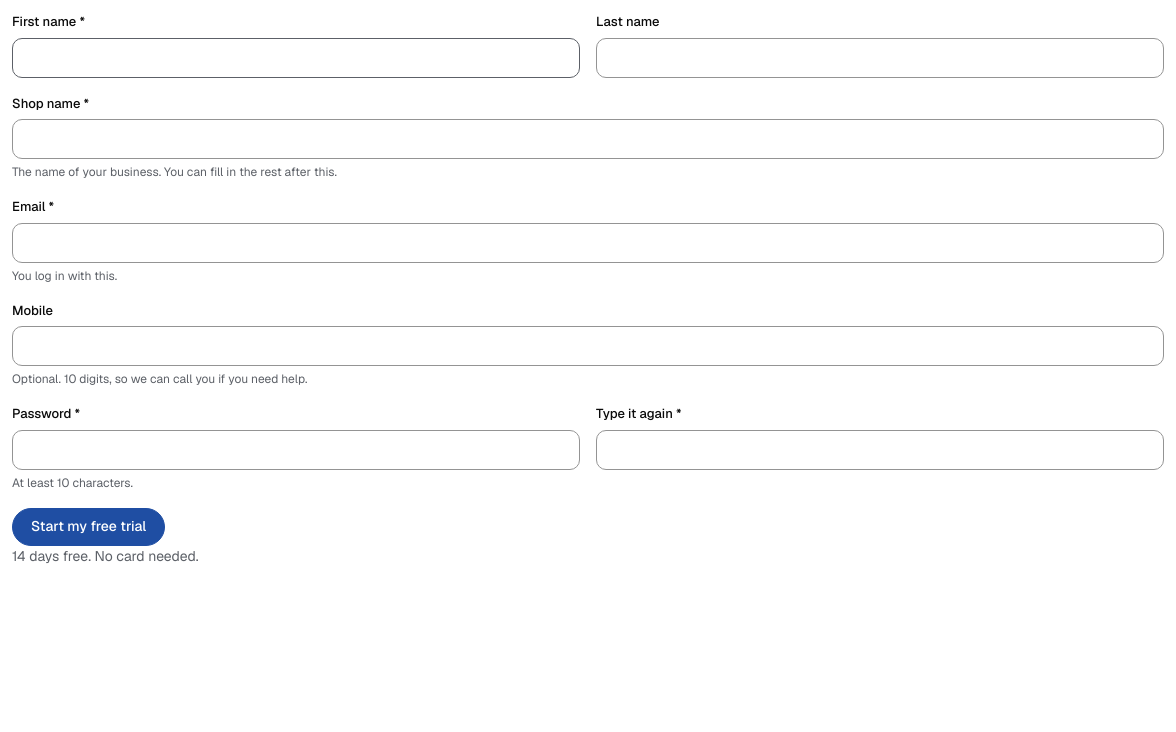
Test: SignupForm › checks the form first: the two passwords must match, and nothing is sent
Click the button "Start my free trial" at {"x": 89, "y": 526}, box [12, 508, 165, 546]
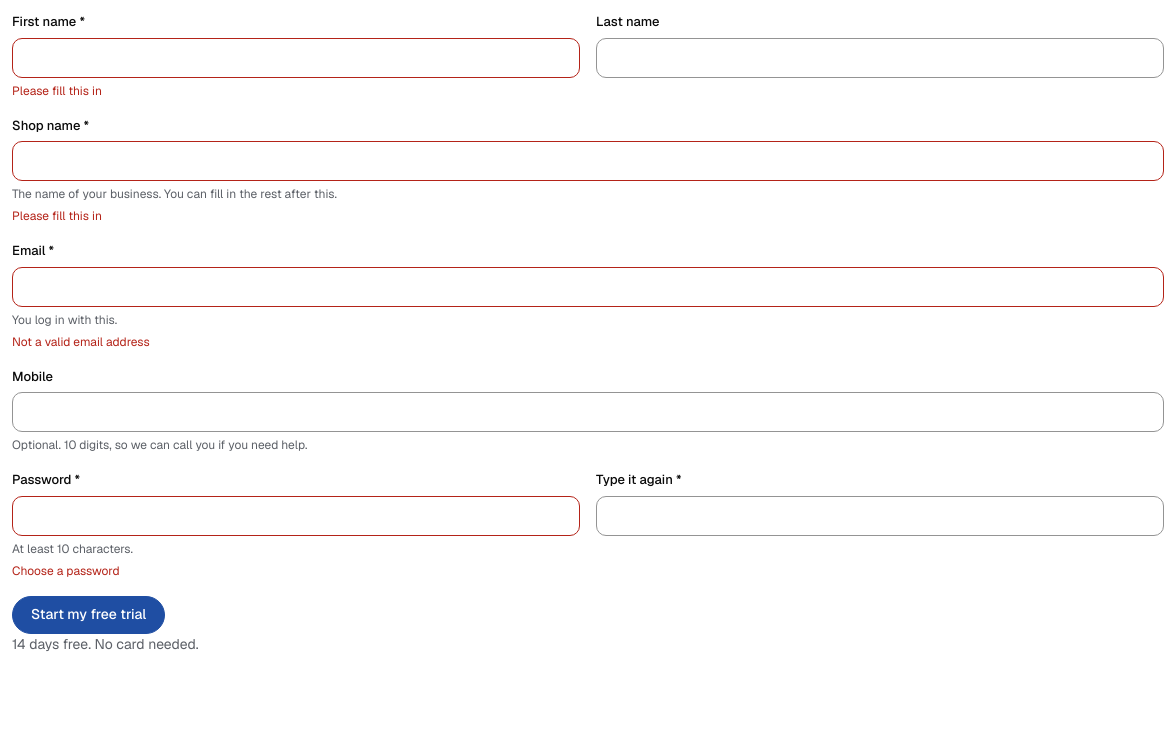
Type "Lakshmi" into the field labelled "First name *" at {"x": 296, "y": 58}, box [12, 38, 580, 78]
Type "Lakshmi Fancy" into the field labelled "Shop name *" at {"x": 588, "y": 161}, box [12, 141, 1164, 181]
Type "Lakshmi@Fancy.test" into the field labelled "Email *" at {"x": 588, "y": 286}, box [12, 266, 1164, 306]
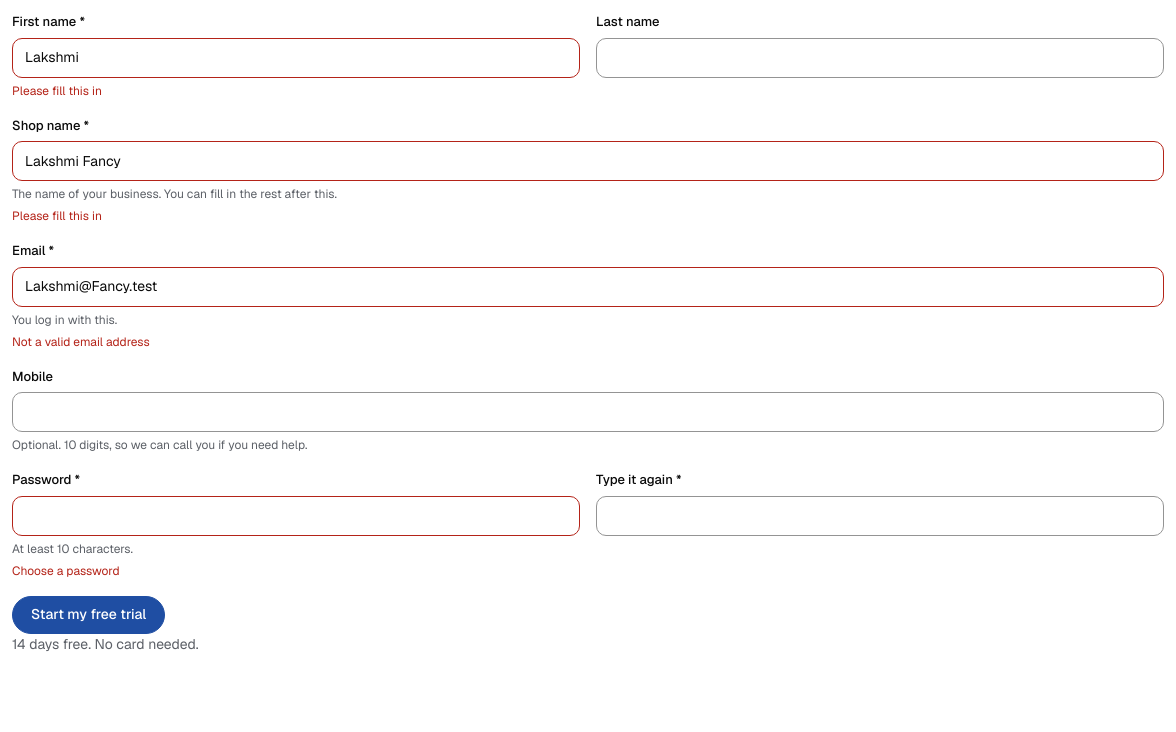
Type "9840012345" into the field labelled "Mobile" at {"x": 588, "y": 412}, box [12, 392, 1164, 432]
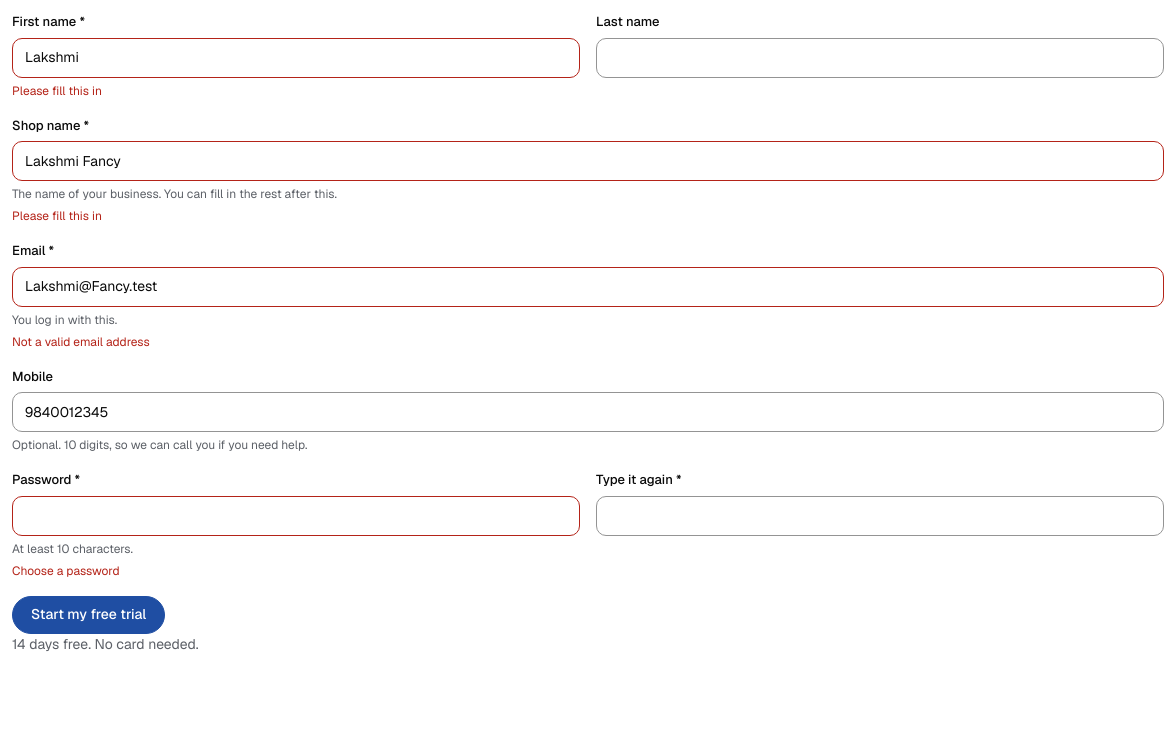
Type "Lakshmi-pass-2026" into the password field labelled "Password *" at {"x": 296, "y": 516}, box [12, 496, 580, 536]
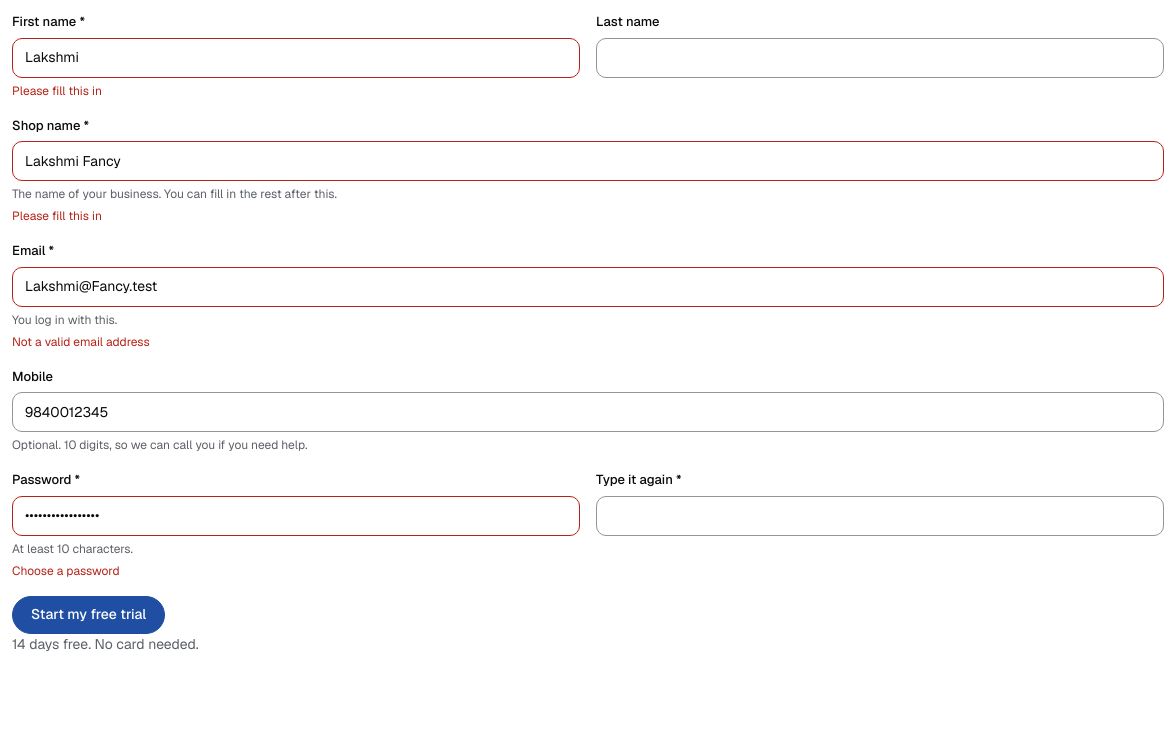
Type "Lakshmi-pass-2025" into the password field labelled "Type it again *" at {"x": 880, "y": 516}, box [596, 496, 1164, 536]
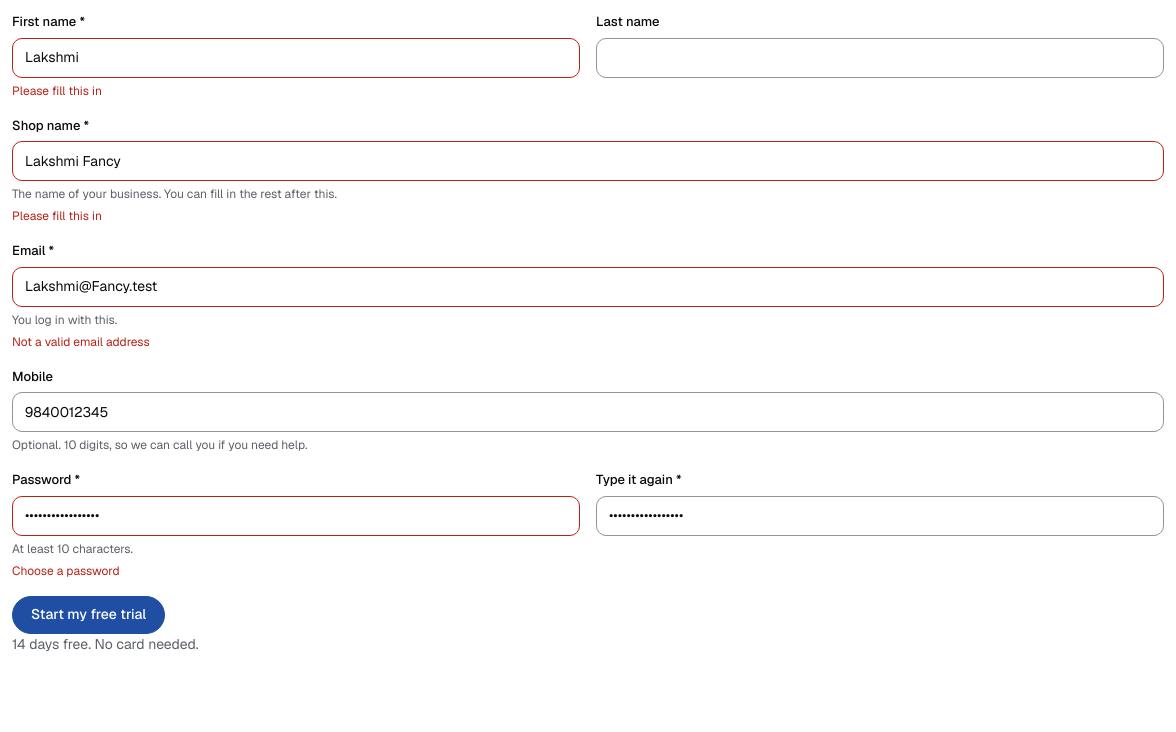
Click the button "Start my free trial" at {"x": 89, "y": 614}, box [12, 596, 165, 634]
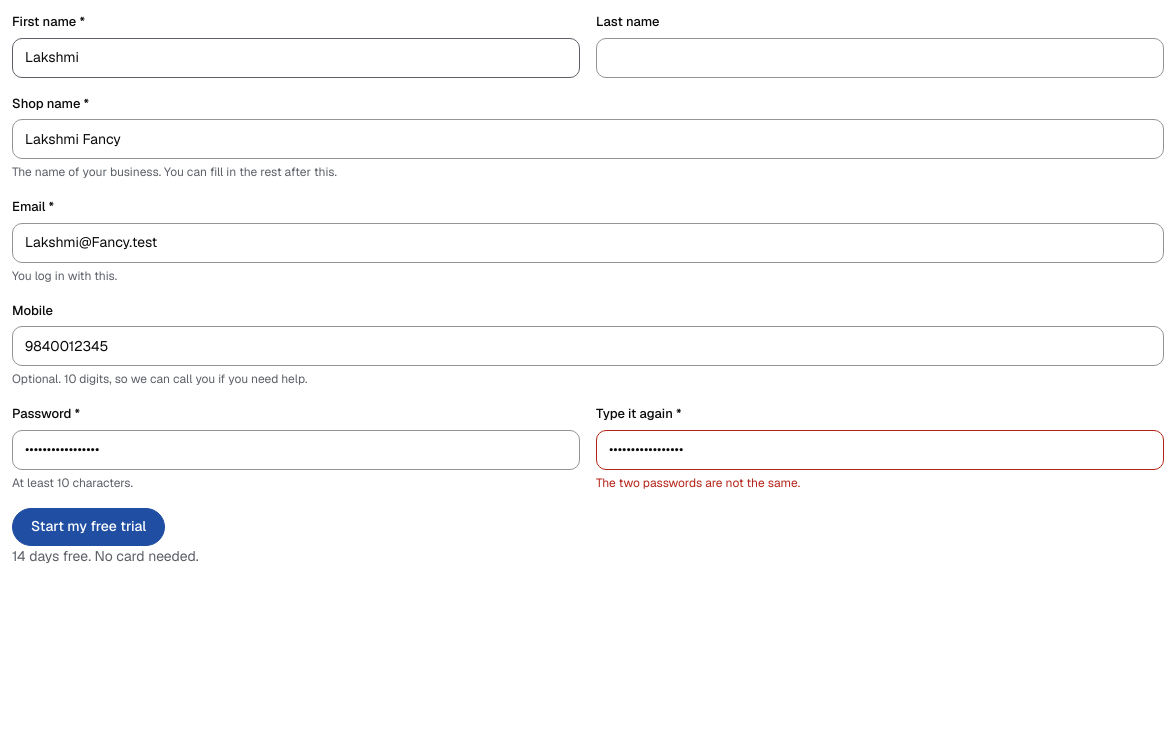
Check: the text "The two passwords are not the same." is shown, box [596, 474, 800, 490]
